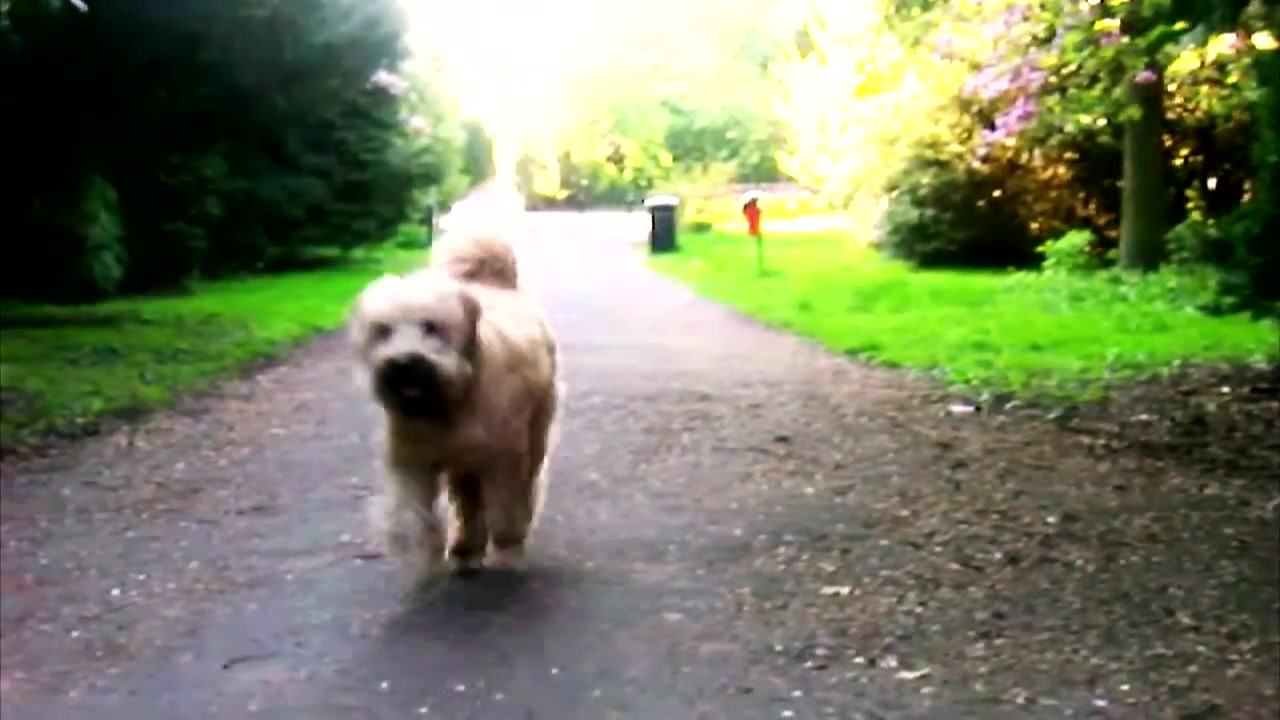dog: (352, 243, 563, 582)
